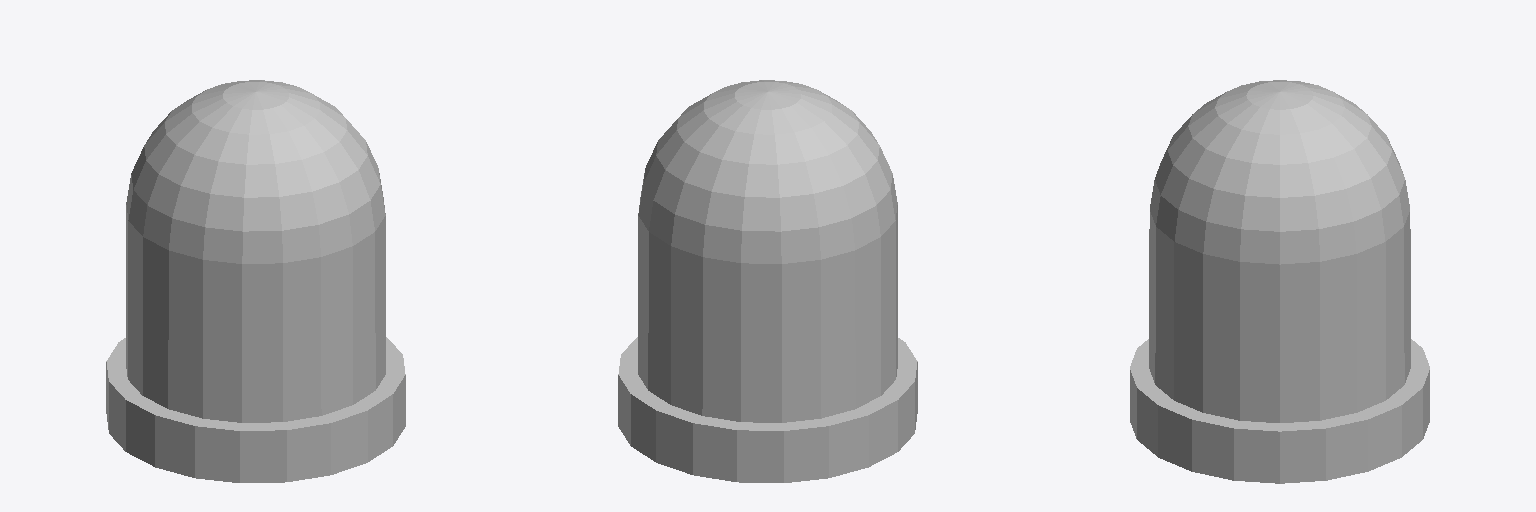
The model's file is int_prop_turninglight.obj.
The picture shows the model from 3 angles: view 1: azimuth 30°, elevation 25°; view 2: azimuth 150°, elevation 25°; view 3: azimuth 270°, elevation 25°; orthographic projection.
Visible parts, largest first — view 1: saftblandare; view 2: saftblandare; view 3: saftblandare.
Part boxes in pixels (x1,y1,x2,y2): saftblandare: (106,80,405,482); saftblandare: (618,80,917,482); saftblandare: (1130,80,1429,483).
Bounding box in the file's own units: 4.43 × 5.34 × 4.43.